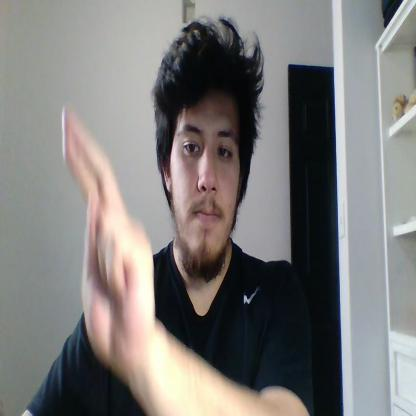R: (62, 105, 156, 362)
